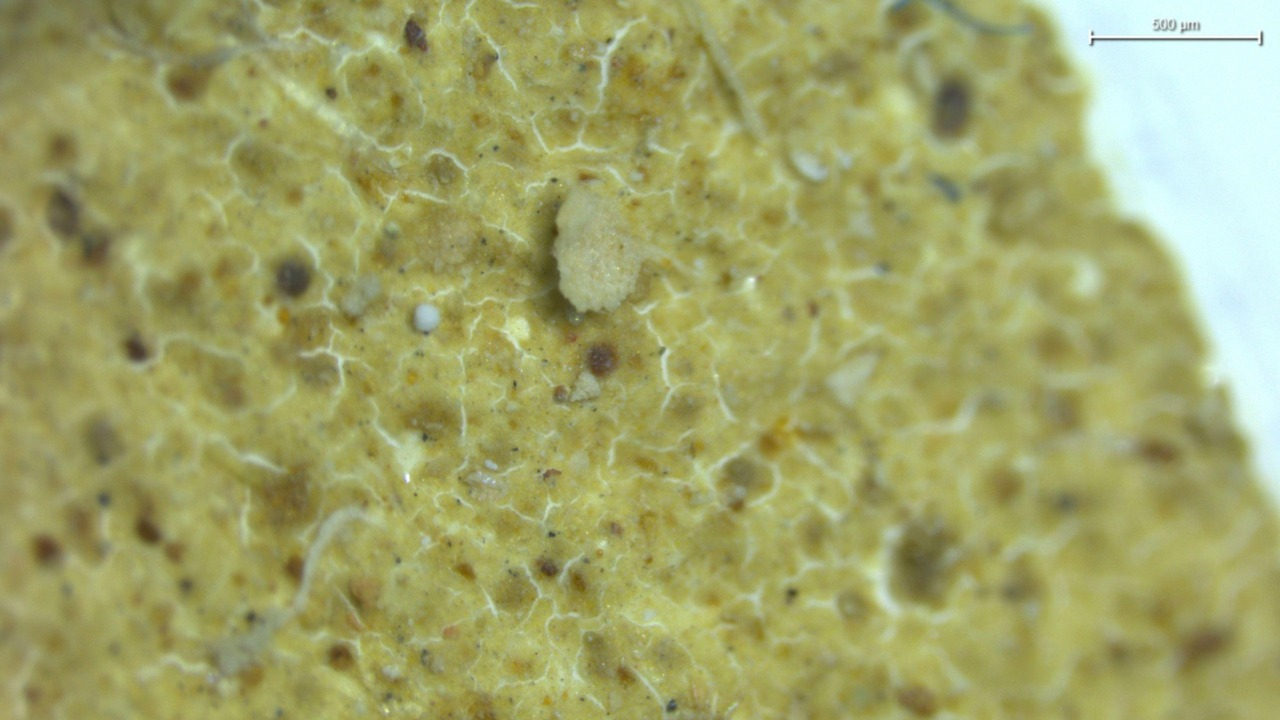microplastic_fragment: (553, 187, 645, 313)
